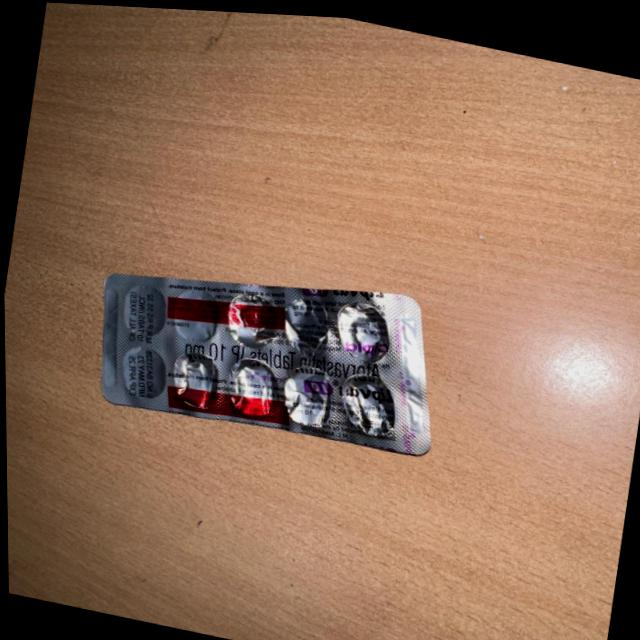medicine: (74, 251, 446, 469)
